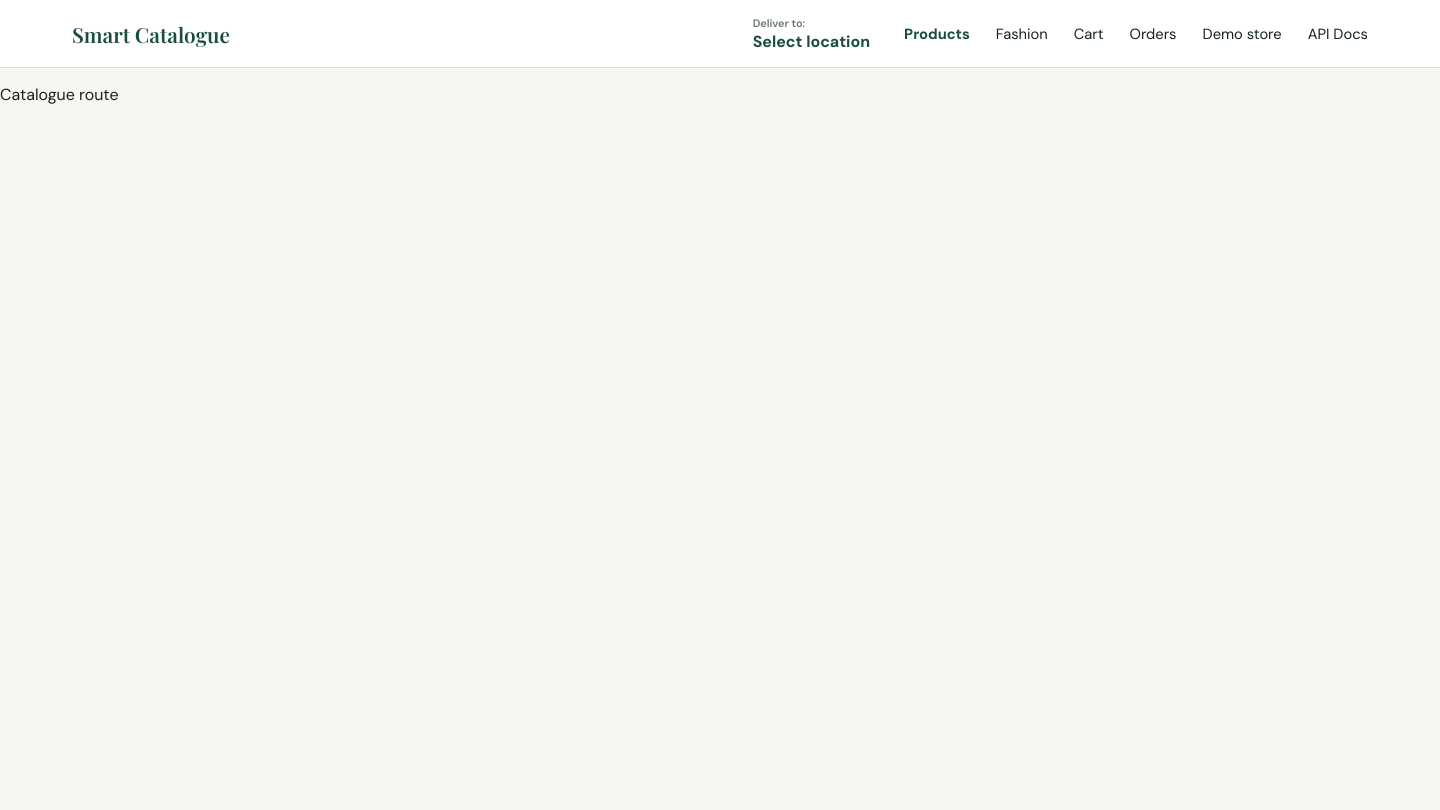
Test: LocationSelector › uses browser geolocation only after the explicit action
The image size is (1440, 810).
Click the button "Deliver to: Select location": (811, 34) [743,10,880,58]
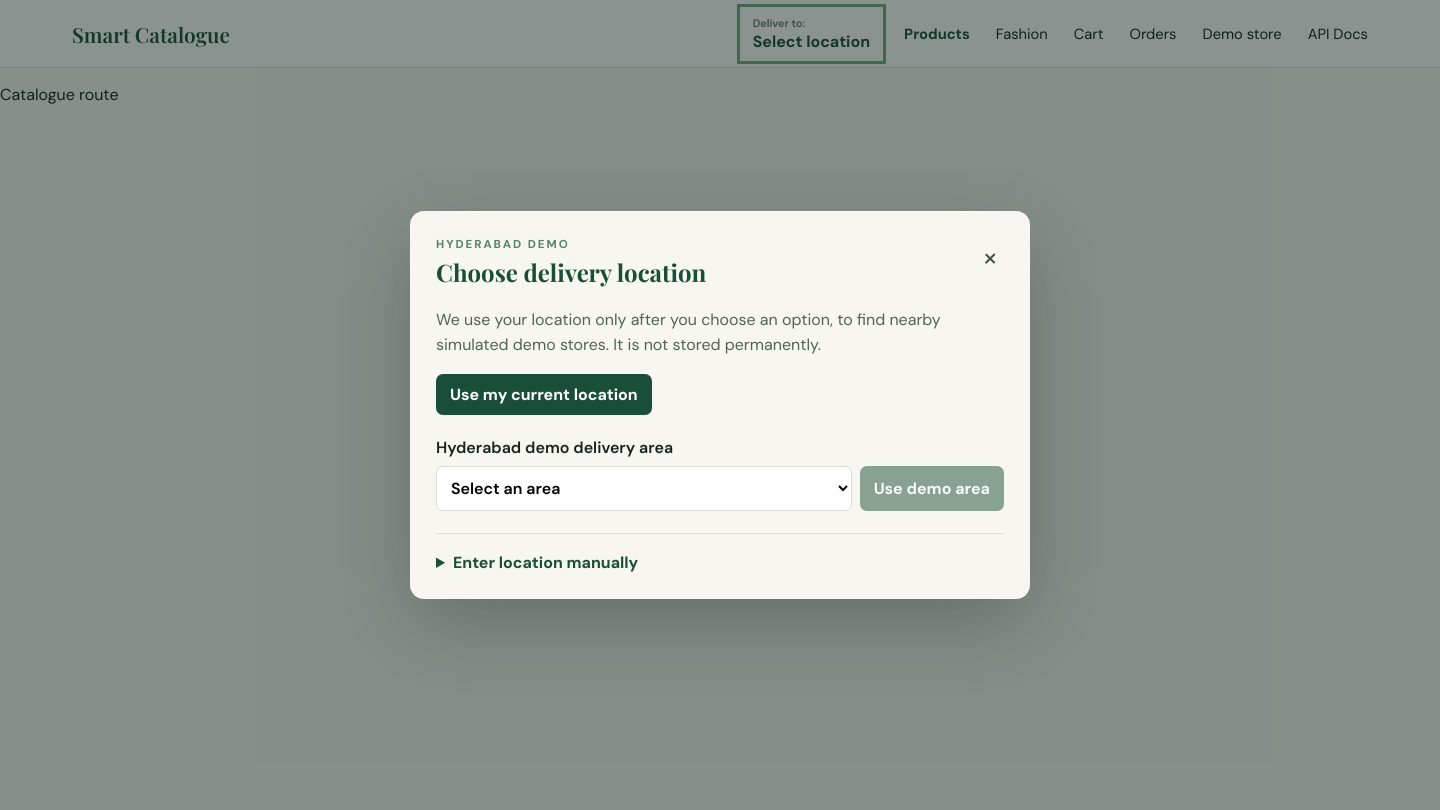
Click the button "Use my current location": (544, 394) [436,374,652,415]
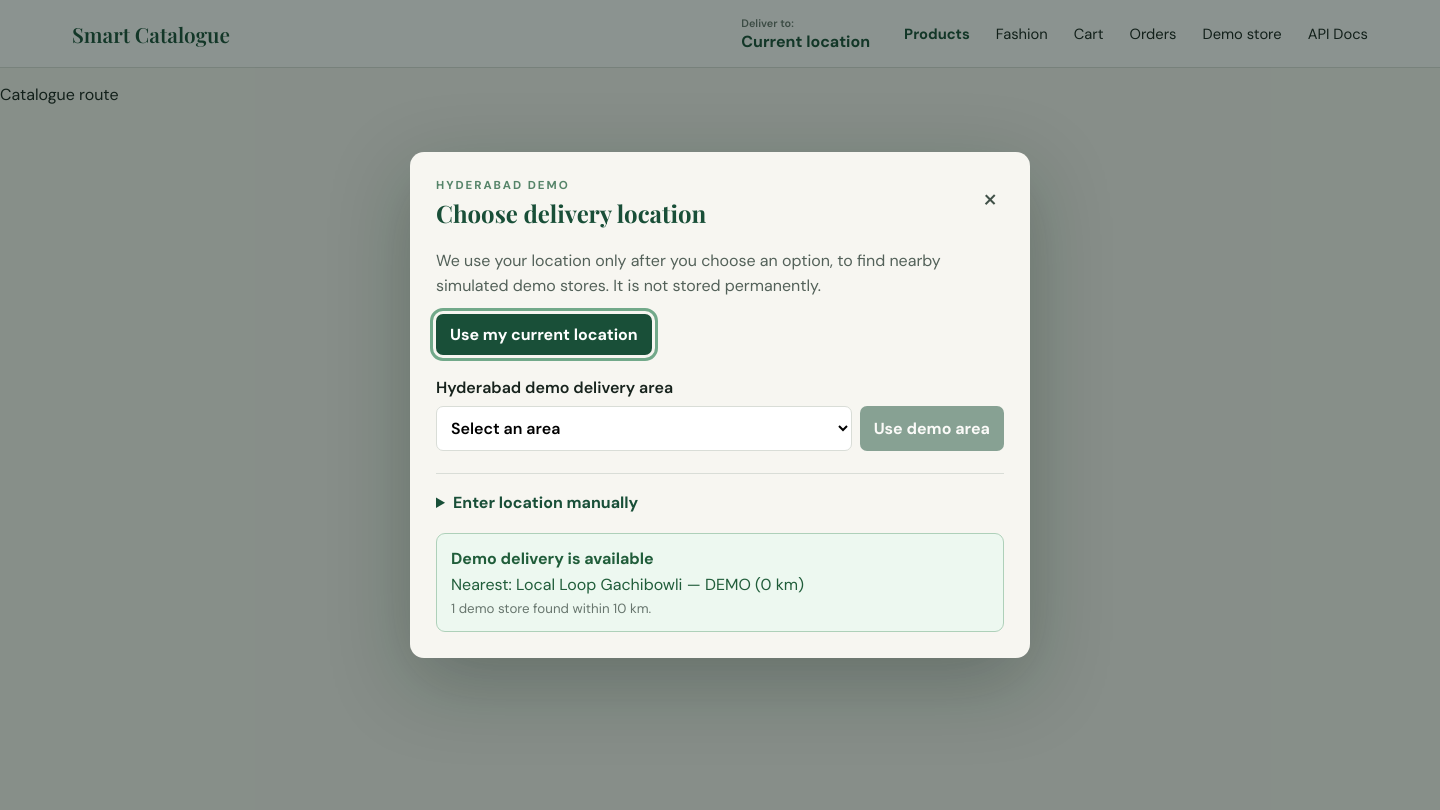
Check: the text "Demo delivery is available" is shown, box [451,548,654,569]
Check: the button "Deliver to: Current location" is shown, box [731,10,880,58]
